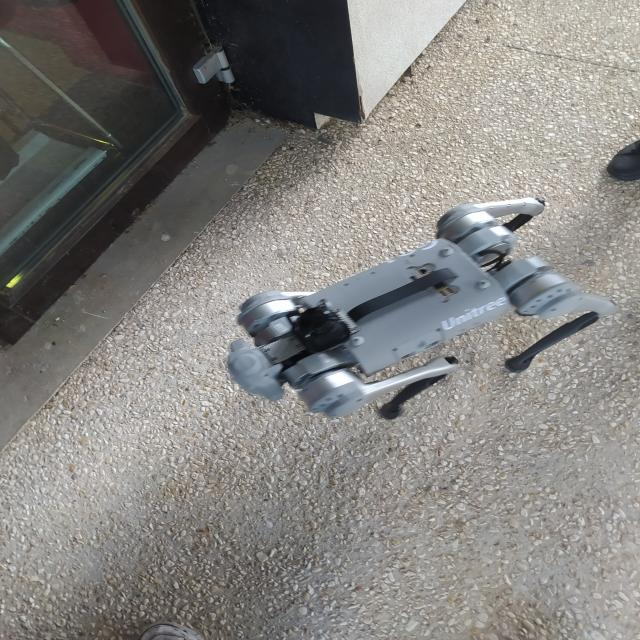unitree-go1-robot: (220, 186, 620, 448)
